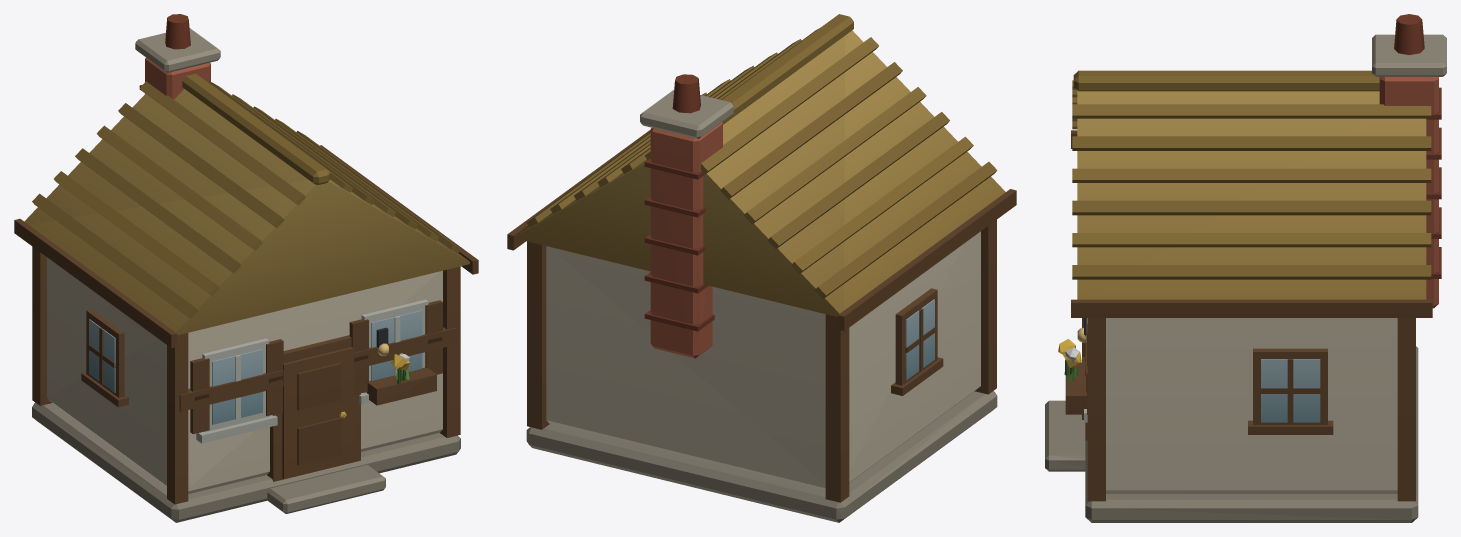
Rendered from home-cottage-01.glb.
3 renders of one model, left to right at view 1: azimuth 30°, elevation 25°; view 2: azimuth 150°, elevation 25°; view 3: azimuth 270°, elevation 25°, orthographic. The views are drawn at different scales.
Parts seen in each view (by area): view 1: home_cottage_01; view 2: home_cottage_01; view 3: home_cottage_01.
Boxes of the visible parts, x1=… form: home_cottage_01: x1=14, y1=14, x2=478, y2=522; home_cottage_01: x1=507, y1=14, x2=1016, y2=522; home_cottage_01: x1=1045, y1=14, x2=1446, y2=522.
Bounding box in the file's own units: 3.16 × 3.63 × 3.11.
